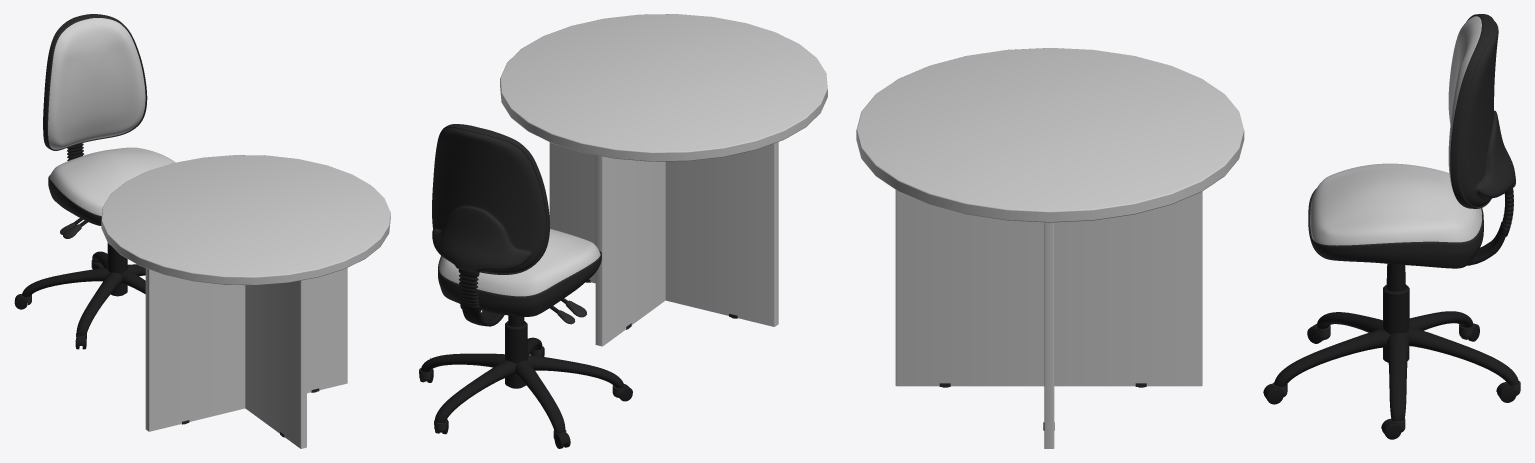
The model's file is Zhuo.FBX.
The picture shows the model from 3 angles, left to right: view 1: azimuth 30°, elevation 25°; view 2: azimuth 150°, elevation 25°; view 3: azimuth 270°, elevation 25°; orthographic projection. The views are drawn at different scales.
Parts seen in each view (by area): view 1: Cylinder005, Box001, Archmodels vol_89_024_17, Archmodels vol_89_024_18, Archmodels vol_89_024_16, Archmodels vol_89_024_13, Archmodels vol_89_024_14, Archmodels vol_89_024_1, Archmodels vol_89_024_3; view 2: Cylinder005, Box001, Archmodels vol_89_024_16, Archmodels vol_89_024_18, Archmodels vol_89_024_1, Archmodels vol_89_024_12, Archmodels vol_89_024_3, Archmodels vol_89_024_13, Archmodels vol_89_024_14, Archmodels vol_89_024_11, Archmodels vol_89_024_8, Archmodels vol_89_024_7; view 3: Box001, Cylinder005, Archmodels vol_89_024_18, Archmodels vol_89_024_16, Archmodels vol_89_024_1, Archmodels vol_89_024_2, Archmodels vol_89_024_3, Archmodels vol_89_024_12, Archmodels vol_89_024_17, Archmodels vol_89_024_11, Archmodels vol_89_024_14, Archmodels vol_89_024_13.
Part boxes in pixels (x1,y1,x2,y2): Cylinder005: (101,155,390,285); Box001: (145,268,347,448); Archmodels vol_89_024_17: (48,18,145,149); Archmodels vol_89_024_18: (49,147,175,216); Archmodels vol_89_024_16: (43,14,147,150); Archmodels vol_89_024_13: (22,268,109,297); Archmodels vol_89_024_14: (76,272,122,336); Archmodels vol_89_024_1: (48,175,101,225); Archmodels vol_89_024_3: (107,243,127,296); Cylinder005: (500,14,827,161); Box001: (549,142,778,346); Archmodels vol_89_024_16: (432,124,549,274); Archmodels vol_89_024_18: (439,229,600,296); Archmodels vol_89_024_1: (438,250,601,316); Archmodels vol_89_024_12: (434,360,515,422); Archmodels vol_89_024_3: (505,315,527,388); Archmodels vol_89_024_13: (515,360,565,434); Archmodels vol_89_024_14: (527,355,624,388); Archmodels vol_89_024_11: (421,353,505,372); Archmodels vol_89_024_8: (458,269,480,312); Archmodels vol_89_024_7: (462,309,504,326); Box001: (895,190,1202,448); Cylinder005: (856,48,1244,222); Archmodels vol_89_024_18: (1310,163,1481,245); Archmodels vol_89_024_16: (1450,14,1515,208); Archmodels vol_89_024_1: (1308,188,1483,268); Archmodels vol_89_024_2: (1274,329,1390,386); Archmodels vol_89_024_3: (1383,263,1409,362); Archmodels vol_89_024_12: (1406,327,1518,387); Archmodels vol_89_024_17: (1448,16,1481,189); Archmodels vol_89_024_11: (1387,333,1409,424); Archmodels vol_89_024_14: (1317,312,1382,332); Archmodels vol_89_024_13: (1409,311,1473,330).
Bounding box in the file's own units: 103 × 106 × 176.
